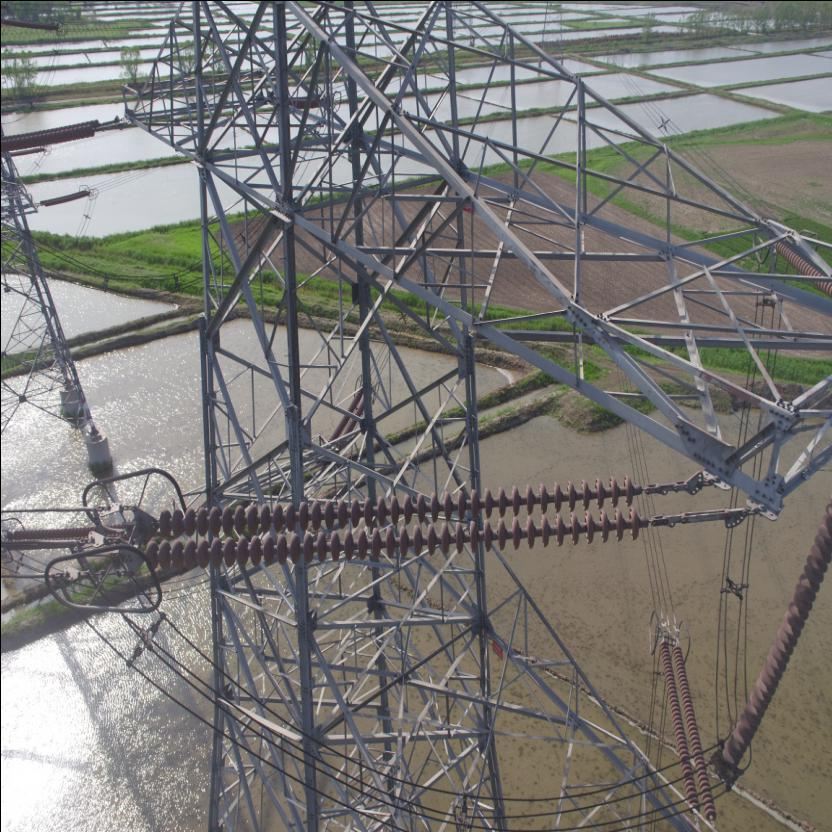insulator: (134, 469, 668, 577), (648, 634, 718, 830)
